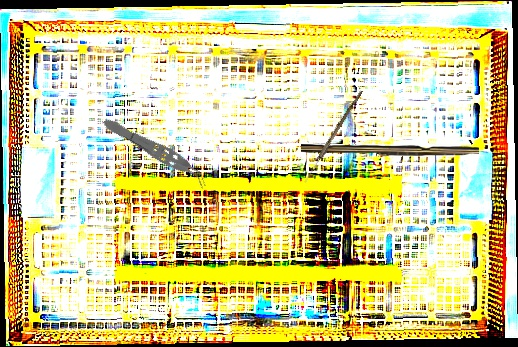Scalpel Handle: (301, 144, 479, 158)
Surgical Spoon: (303, 88, 363, 185)
Tissue Forceps: (99, 113, 213, 190)
